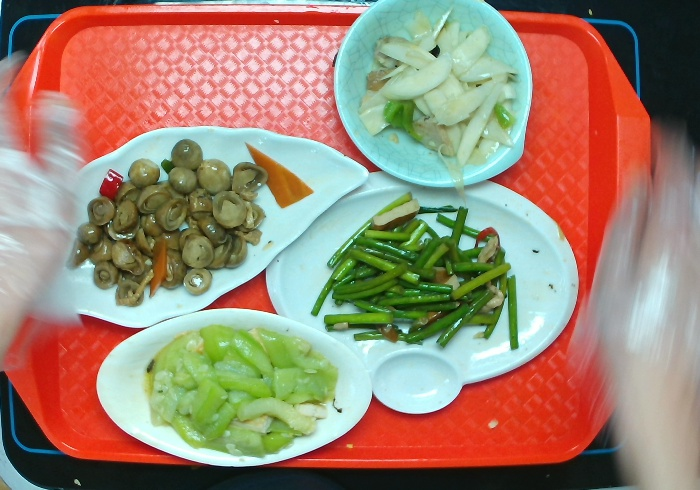RJxy-Bai_Se_Tuo_Yuan: (90, 305, 378, 474)
RJxy-Shu_Ye_Pan: (37, 120, 374, 340)
RJxy-Xiao_Jiao_Yuan_Wan: (329, 1, 536, 194)
RJxy-Zhan_Liao_Pan: (257, 166, 583, 423)
